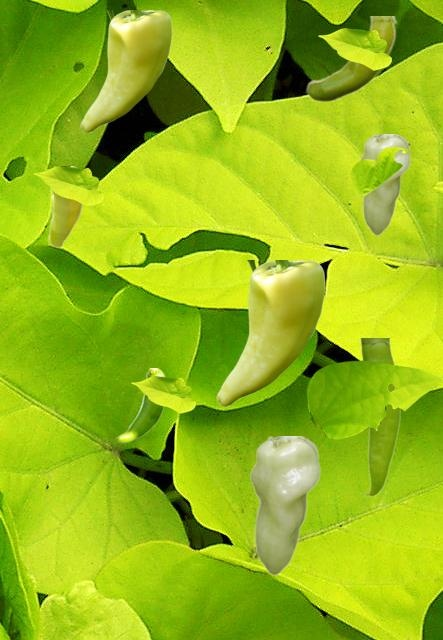green_chili: (216, 260, 324, 406), (80, 10, 171, 132), (249, 436, 319, 574), (305, 16, 396, 100), (359, 338, 399, 496), (359, 134, 409, 234), (115, 368, 165, 442), (47, 166, 84, 247)
